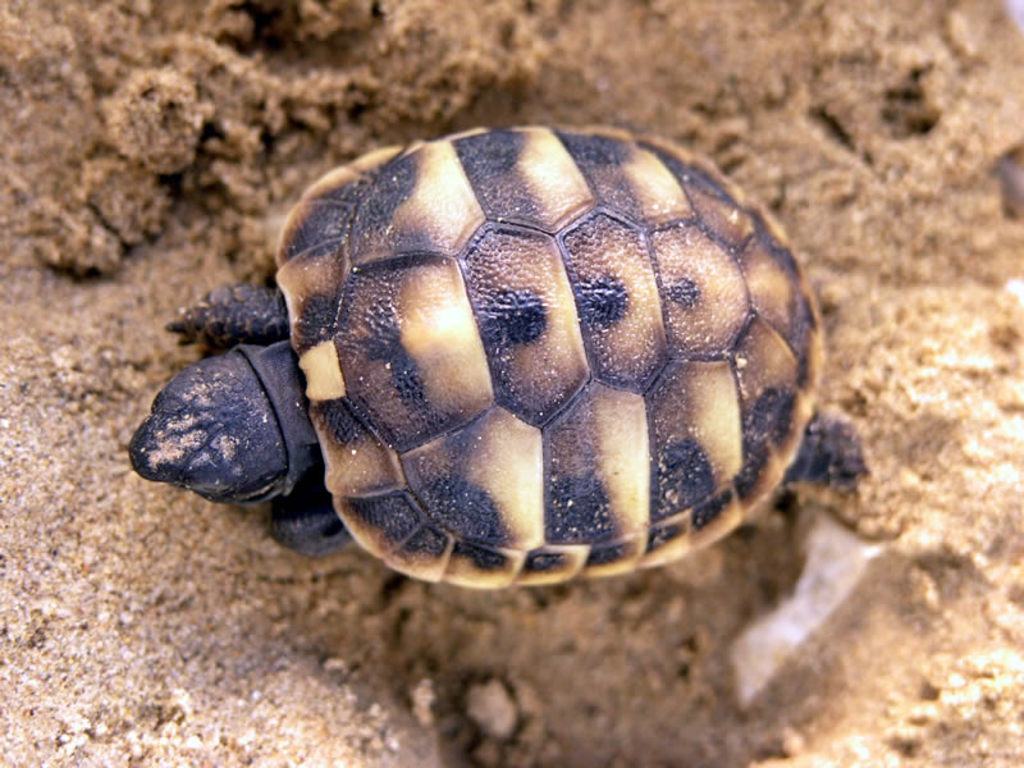Sea turtles: (121, 121, 866, 588)
